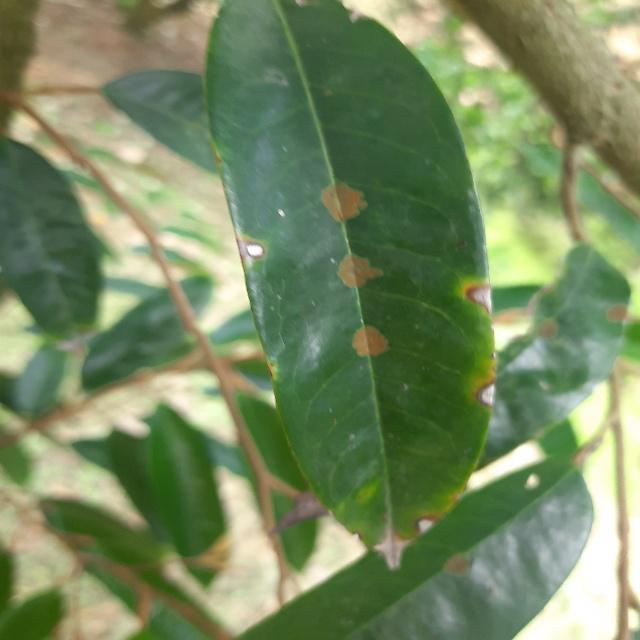Algal Leaf Spot: (201, 0, 502, 583)
